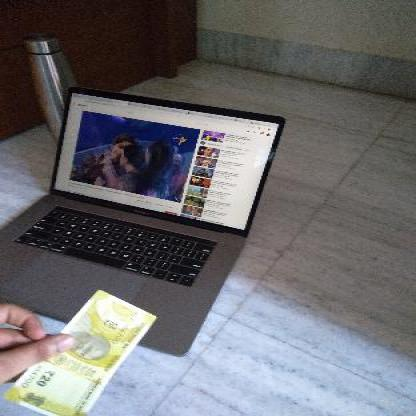New20Front: (8, 289, 155, 415)
